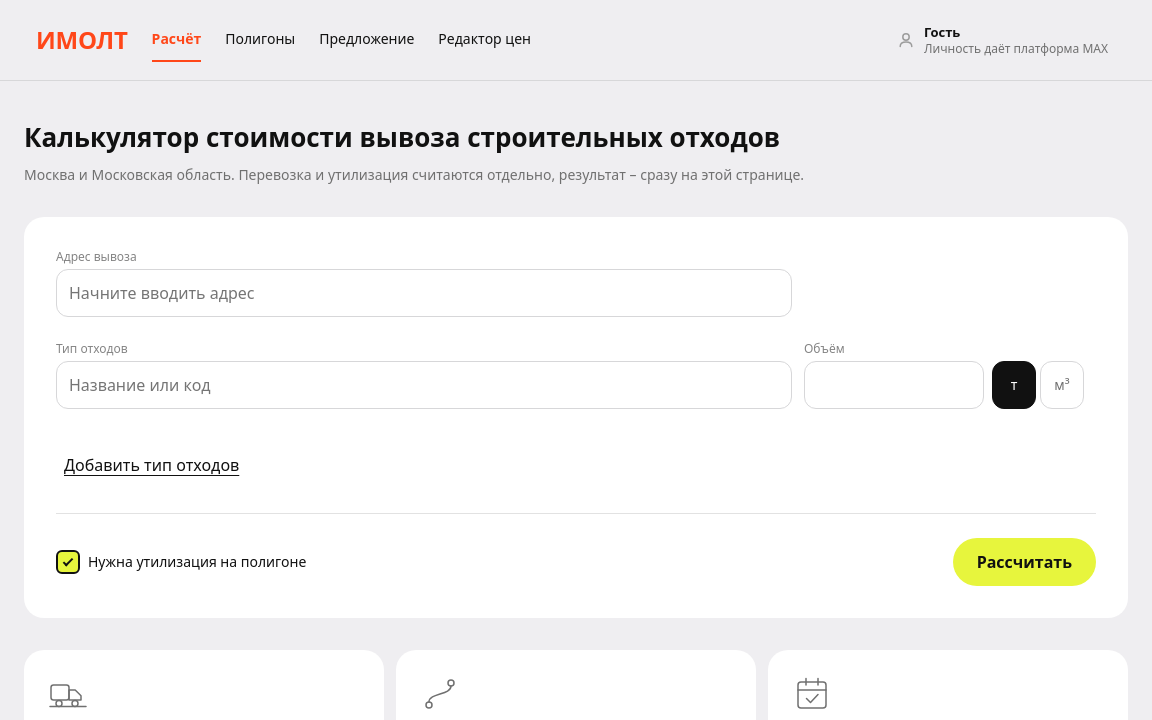
Test: блок результатов на широком экране › до выбора полигона равен таблице: боковой колонки нет
The image size is (1152, 720).
In the dropdown labelled "Адрес вывоза": (424, 293) [56,269,792,317], type "Годовикова"
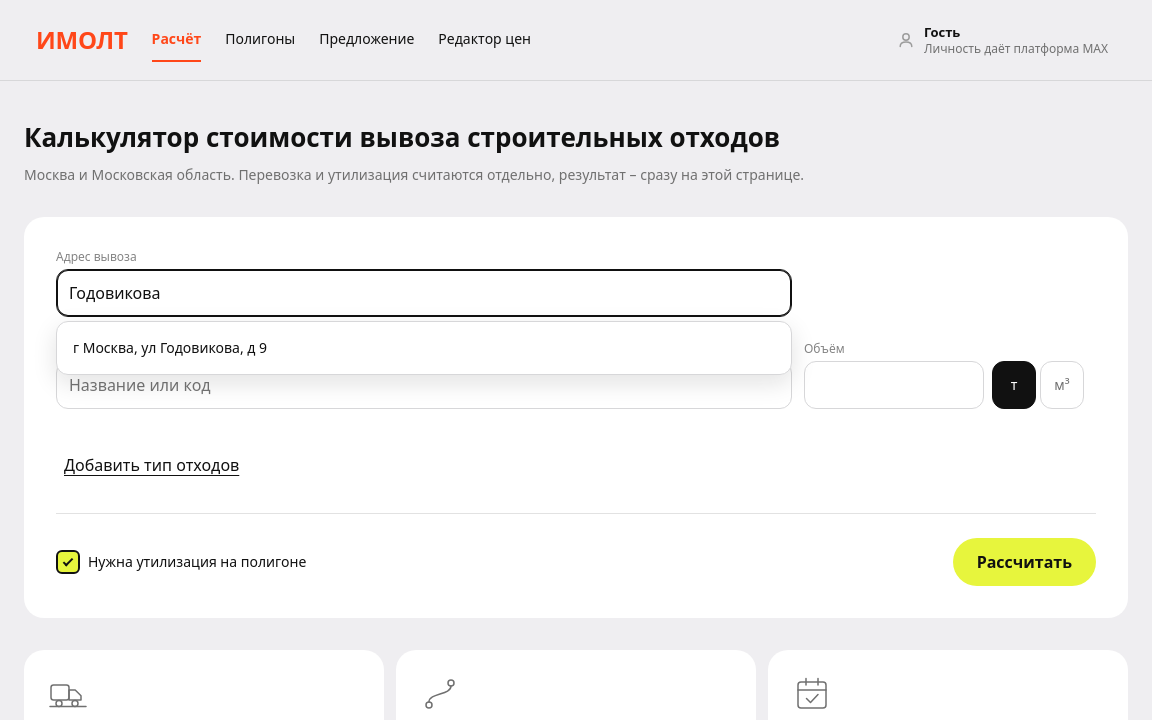
Click the option "г Москва, ул Годовикова, д 9": (170, 348) [73,338,267,357]
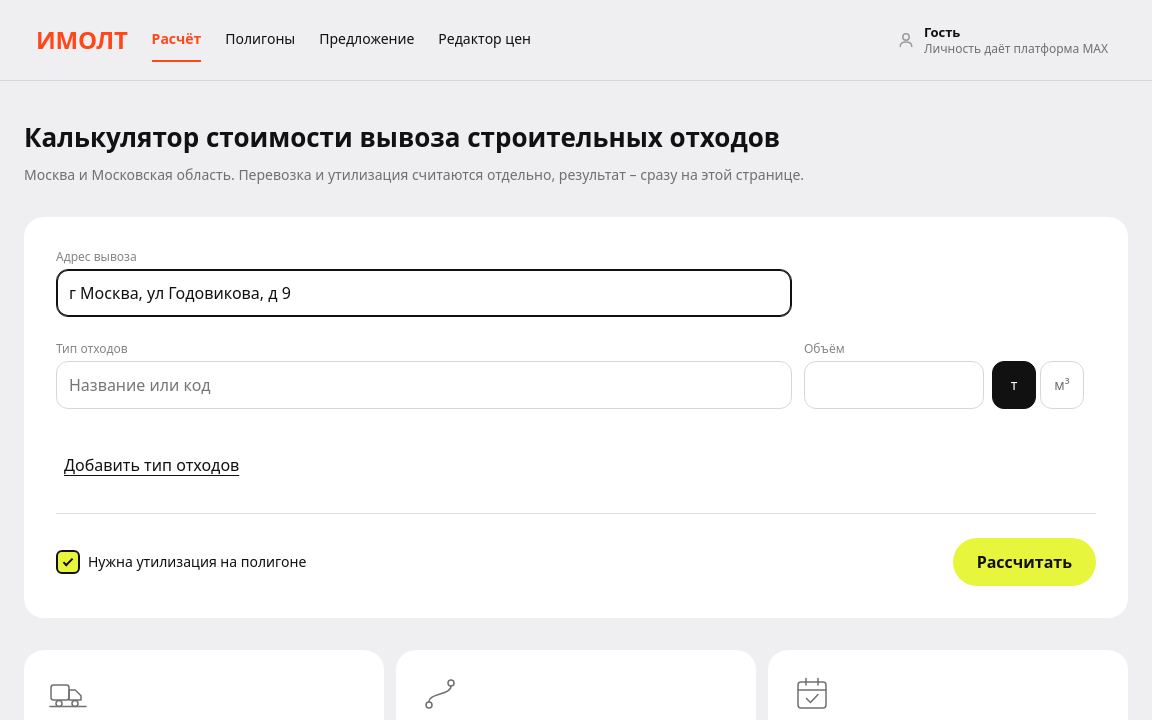
In the dropdown labelled "Тип отходов": (424, 385) [56,361,792,409], type "лом"
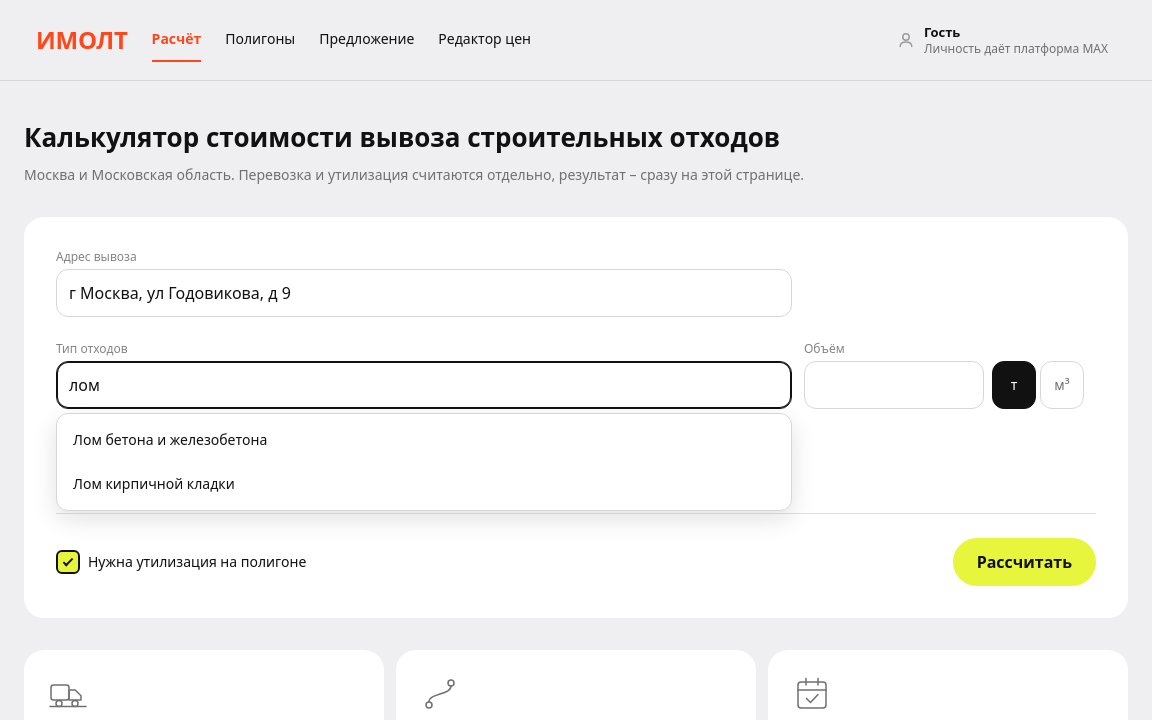
Click the option "Лом бетона и железобетона": (170, 440) [73,430,267,449]
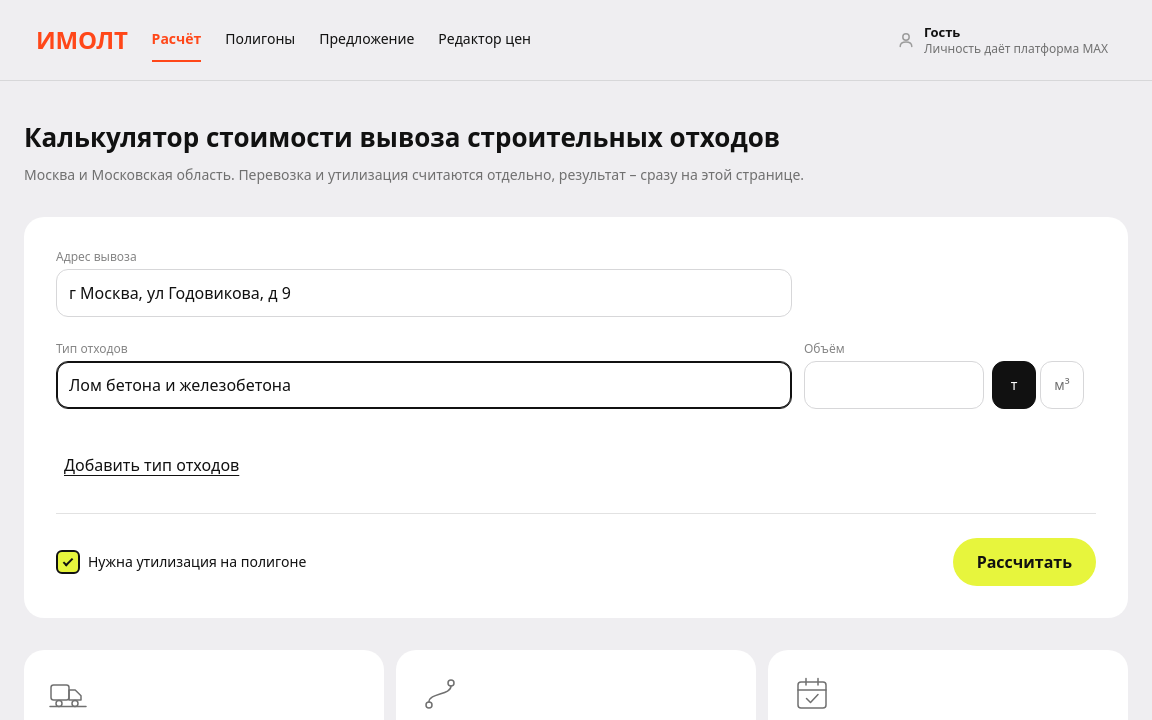
In the field labelled "Объём": (894, 385) [804,361,984,409], type "20"
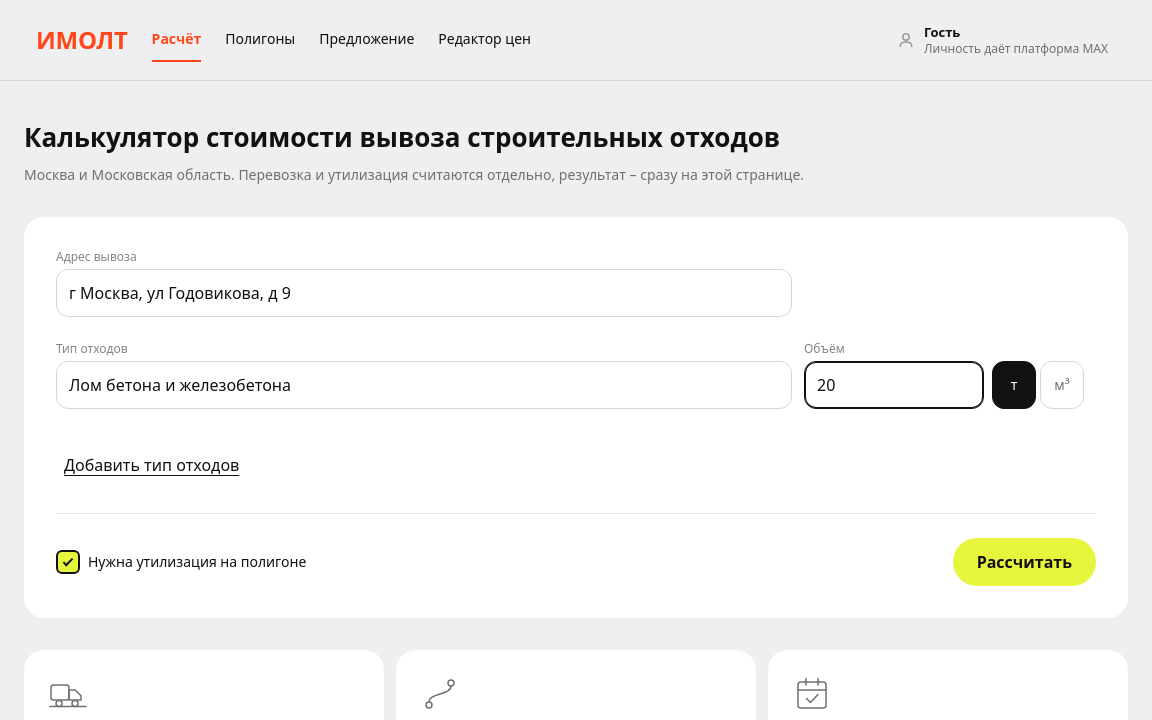
Click the button "Рассчитать": (1024, 562) [953,538,1096,586]
(page scrolled)
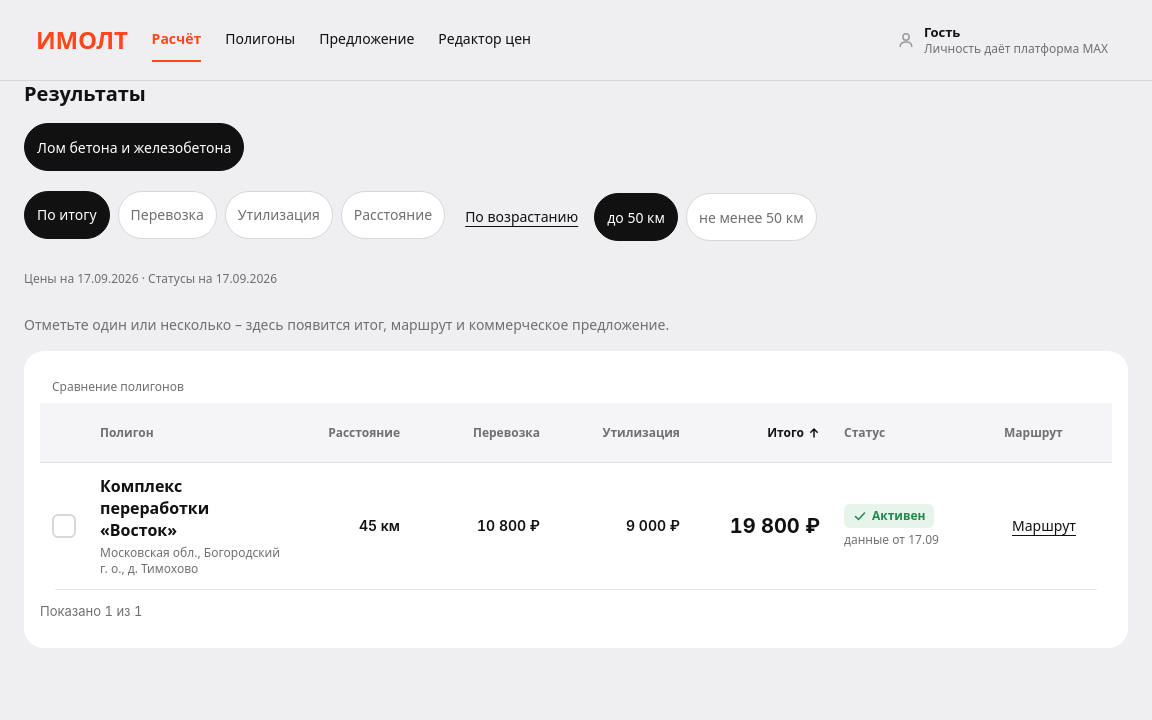
Expected: the element "Результаты" is shown
